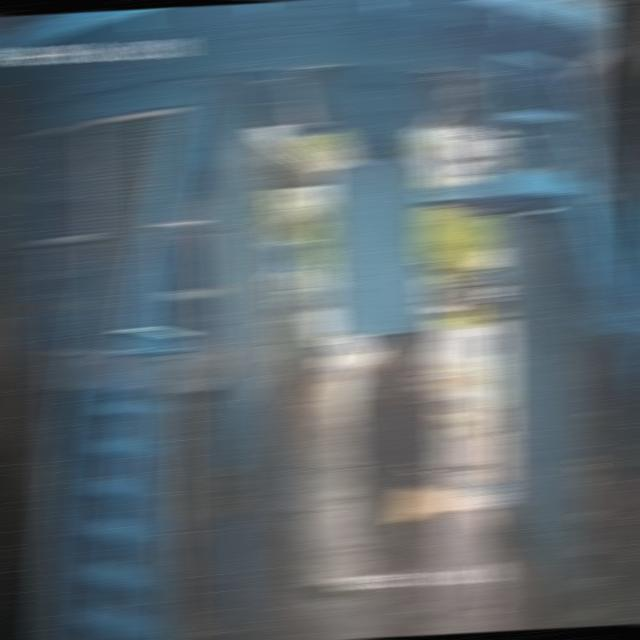cement_mixer_truck: (345, 262, 446, 472)
